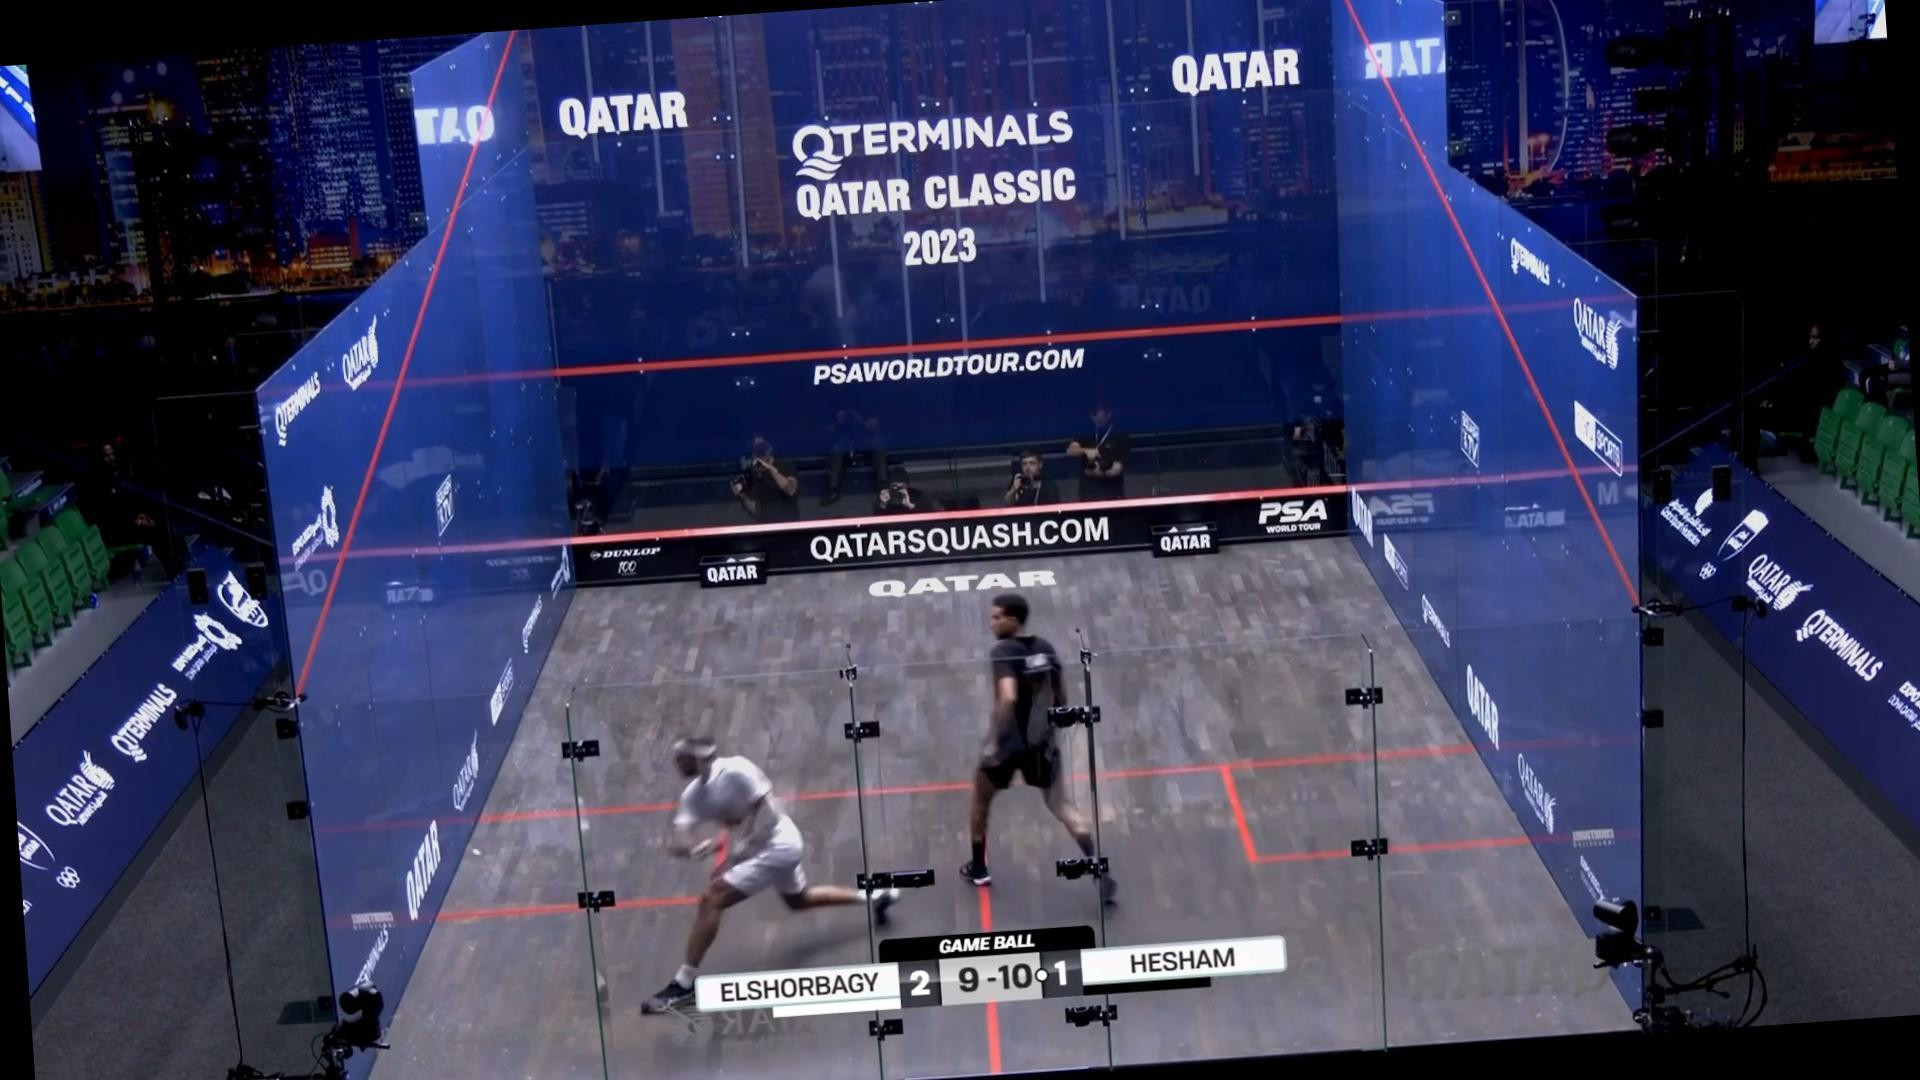Squash-Ball: (464, 837, 489, 866)
